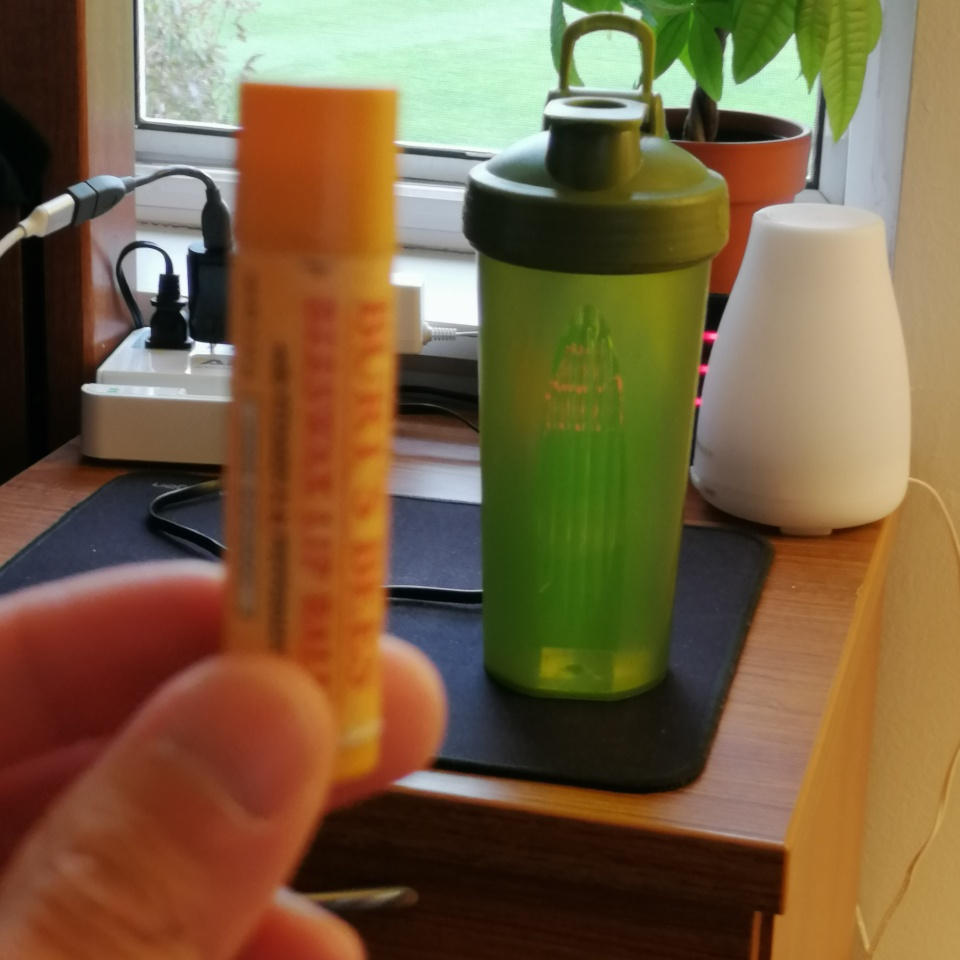chapstick: (222, 83, 398, 782)
